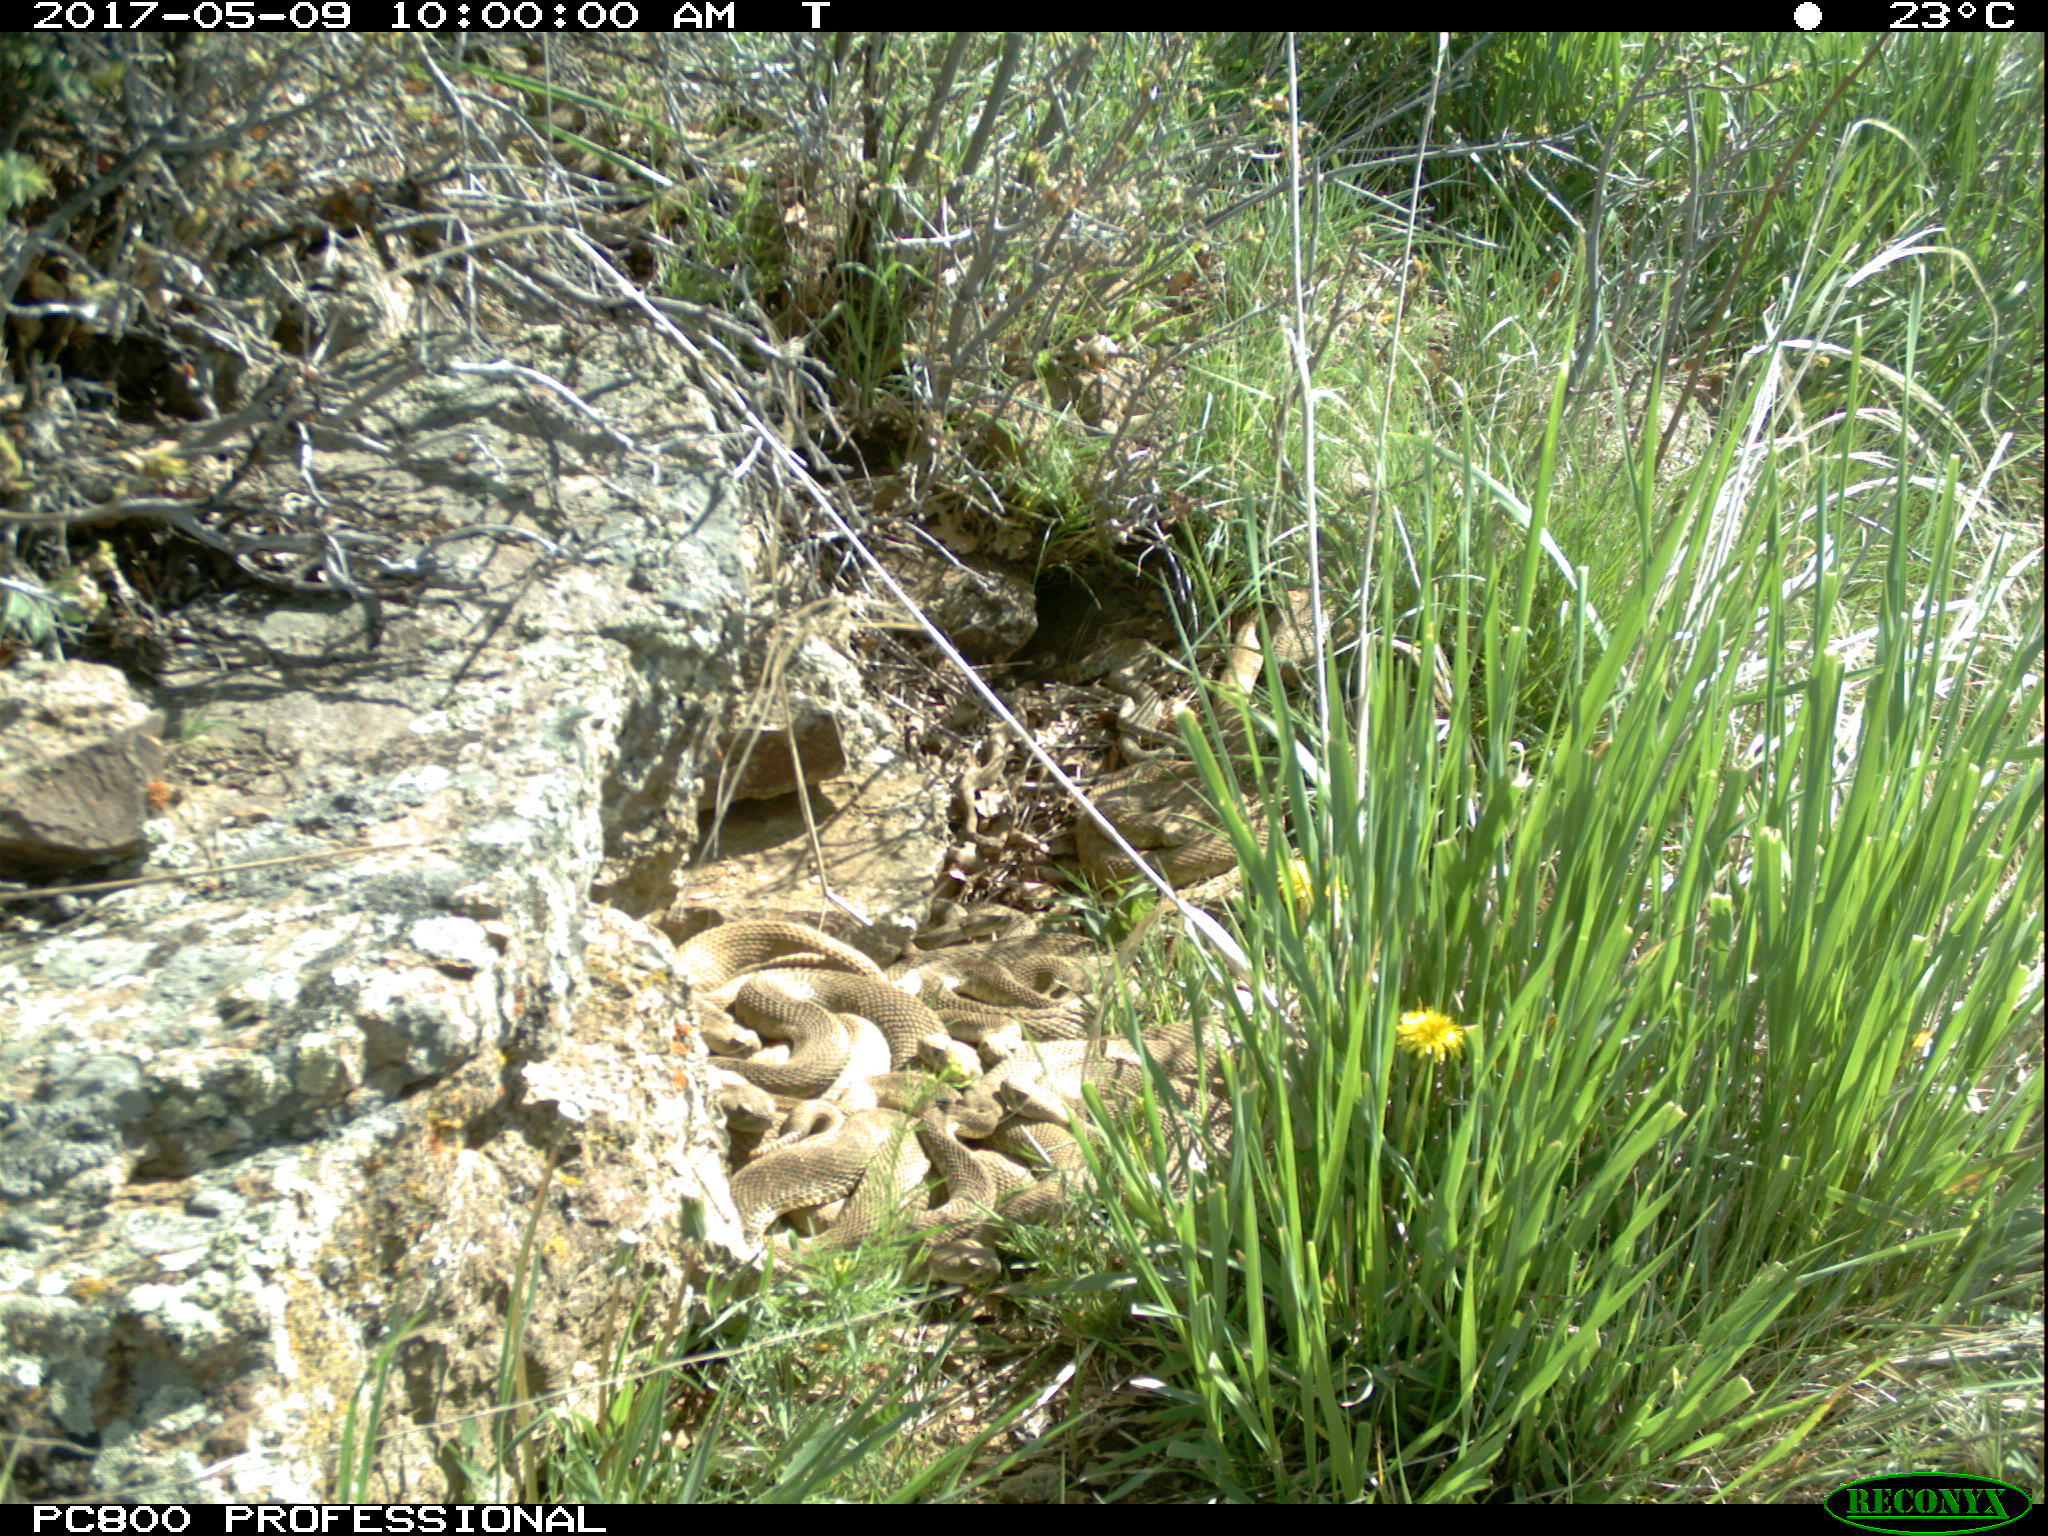snake: (934, 1013, 1235, 1210), (669, 918, 935, 1100), (706, 1100, 985, 1262), (1085, 749, 1276, 886), (939, 913, 1151, 1029), (1222, 599, 1332, 710)
